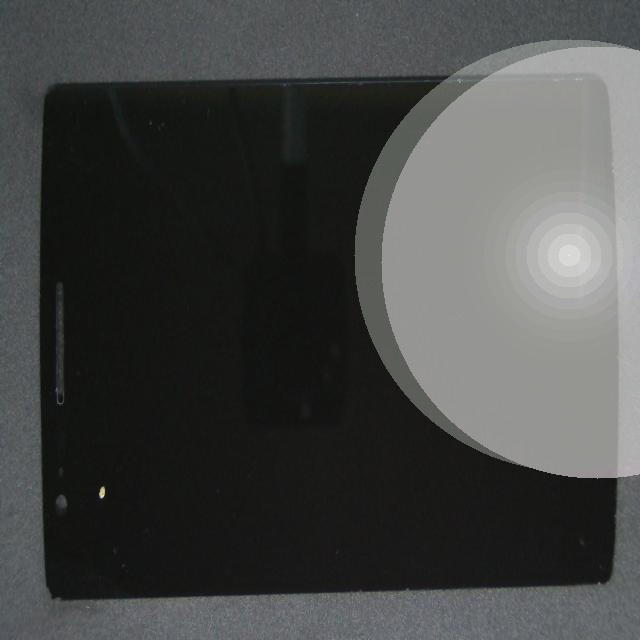stain: (13, 261, 147, 640)
